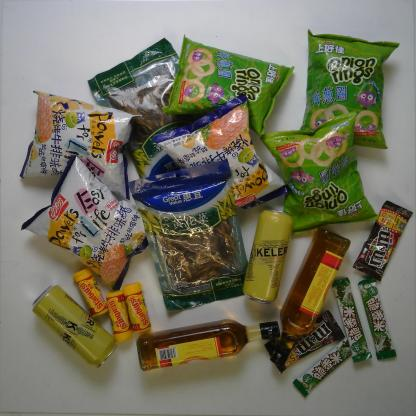Alcohol: (31, 284, 118, 370), (242, 209, 294, 304)
Candy: (71, 266, 109, 319), (121, 283, 152, 335), (104, 292, 134, 344)
Chocolate: (263, 309, 347, 373), (353, 200, 414, 283), (292, 338, 354, 398), (331, 277, 372, 362), (357, 278, 398, 361)
Dried Food: (128, 159, 250, 311), (86, 37, 194, 178)
Puffed Food: (20, 154, 148, 292), (152, 94, 290, 210), (260, 110, 381, 236), (19, 89, 144, 199), (162, 35, 294, 138), (295, 29, 400, 148)
Seasoner: (270, 228, 351, 364), (136, 318, 282, 370)
